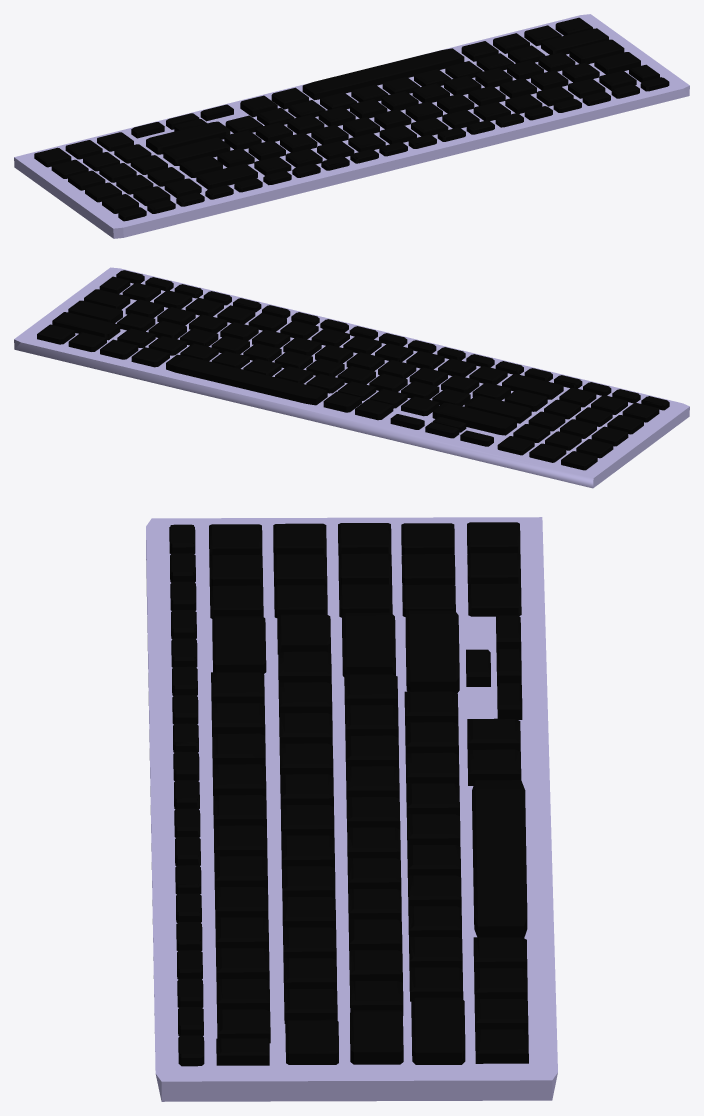
The model's file is keyboard.glb.
3 views of the same model, one above another, from view 1: azimuth 30°, elevation 25°; view 2: azimuth 150°, elevation 25°; view 3: azimuth 270°, elevation 25° (orthographic). The views are drawn at different scales.
Parts seen in each view (by area): view 1: keyboard_48; view 2: keyboard_48; view 3: keyboard_48.
Part boxes in pixels (<box>): keyboard_48: <box>14,14,689,238</box>; keyboard_48: <box>14,267,689,488</box>; keyboard_48: <box>146,517,557,1101</box>.
Bounding box in the file's own units: 5.66 × 0.1672 × 1.75.
